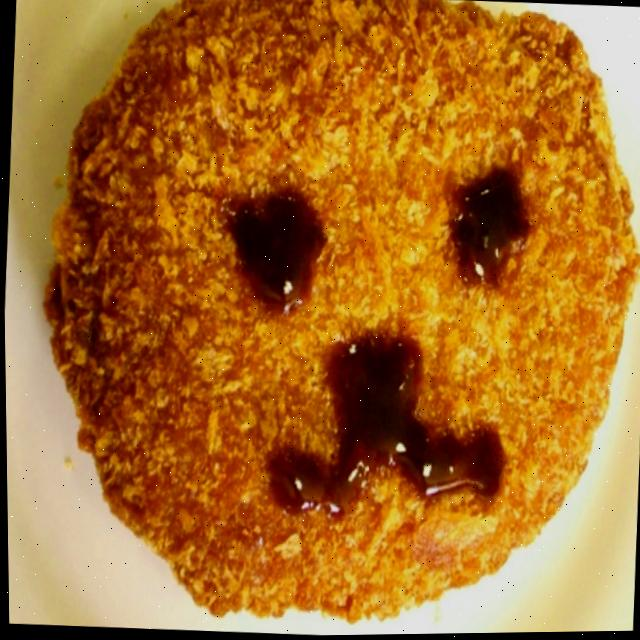炸货点心: (7, 0, 640, 640)
